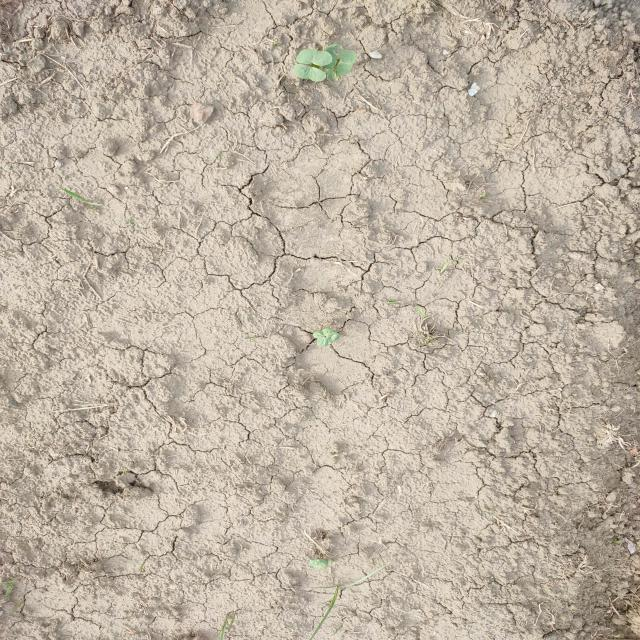seedling_s2: (293, 64, 327, 82), (296, 50, 333, 66), (323, 44, 344, 69), (337, 51, 356, 75), (316, 332, 339, 347), (313, 328, 334, 339), (310, 559, 328, 566), (309, 565, 325, 569)
